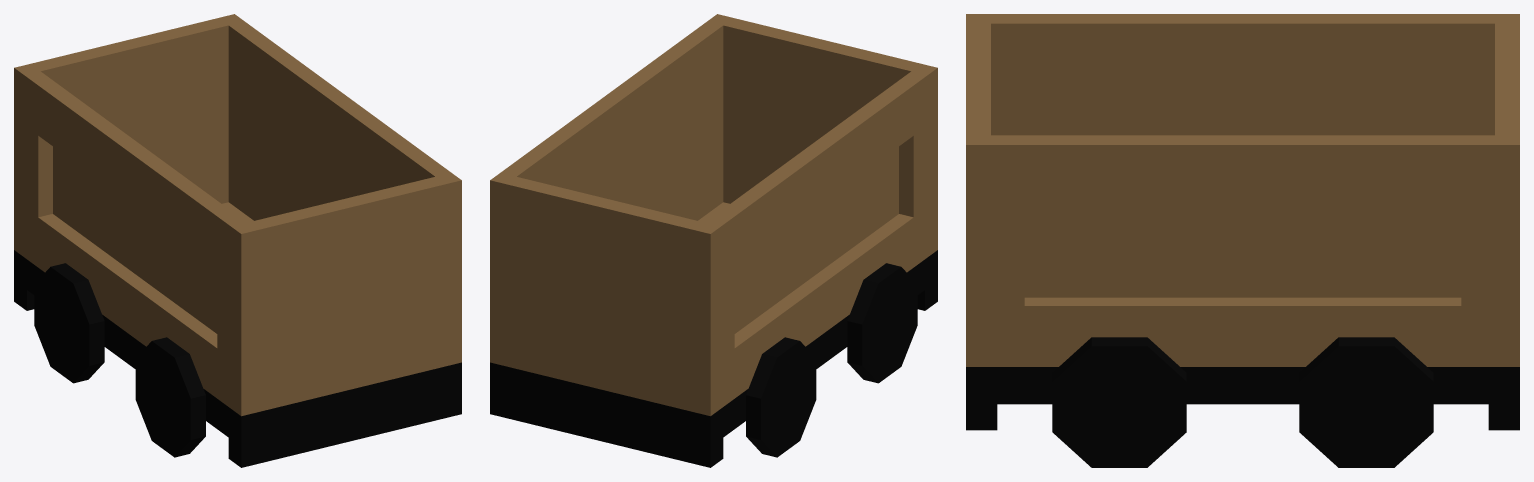
Rendered from rail_supply.fbx.
The picture shows the model from 3 angles, left to right: view 1: azimuth 30°, elevation 25°; view 2: azimuth 150°, elevation 25°; view 3: azimuth 270°, elevation 25°; orthographic projection. The views are drawn at different scales.
Visible parts, largest first — view 1: Cube.007, Cube.006, Circle.012, Circle.010; view 2: Cube.007, Cube.006, Circle.010, Circle.012; view 3: Cube.007, Circle.013, Circle.011, Cube.006.
Boxes of the visible parts, x1=… form: Cube.007: x1=14, y1=14, x2=461, y2=416; Cube.006: x1=14, y1=250, x2=461, y2=467; Circle.012: x1=135, y1=337, x2=205, y2=457; Circle.010: x1=34, y1=263, x2=104, y2=383; Cube.007: x1=490, y1=14, x2=937, y2=416; Cube.006: x1=490, y1=250, x2=937, y2=467; Circle.010: x1=746, y1=337, x2=816, y2=457; Circle.012: x1=847, y1=263, x2=917, y2=383; Cube.007: x1=966, y1=14, x2=1519, y2=366; Circle.013: x1=1052, y1=337, x2=1186, y2=467; Circle.011: x1=1299, y1=337, x2=1433, y2=467; Cube.006: x1=966, y1=367, x2=1519, y2=430.
Size of the model in its own units: 288 by 283 by 452.
